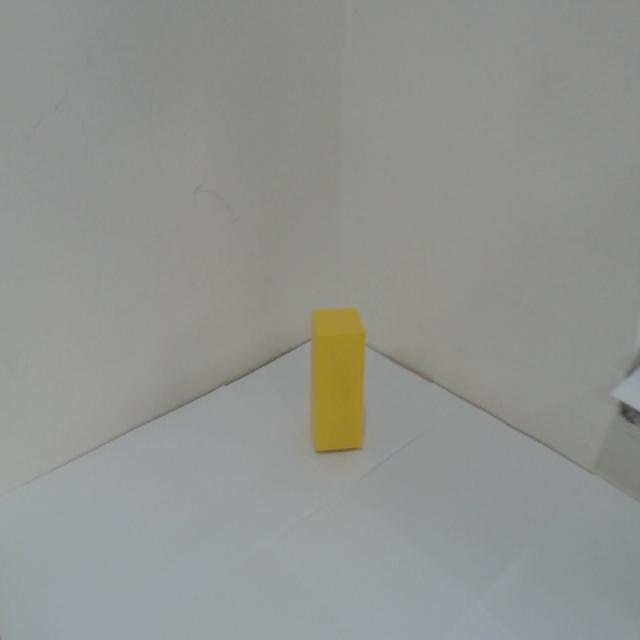cube: (302, 303, 374, 456)
